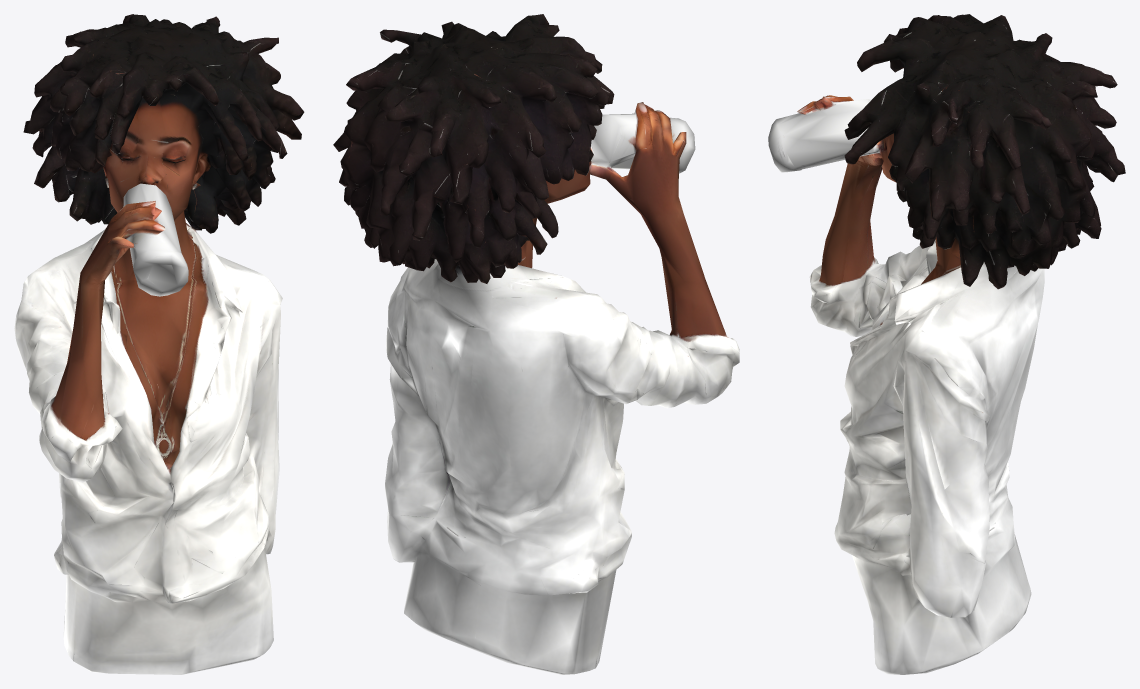
Rendered from black lady drinking.glb.
3 views of the same model, side by side, from view 1: azimuth 30°, elevation 25°; view 2: azimuth 150°, elevation 25°; view 3: azimuth 270°, elevation 25° (orthographic). The views are drawn at different scales.
Parts seen in each view (by area): view 1: Mesh_0; view 2: Mesh_0; view 3: Mesh_0.
Boxes of the visible parts, <box> form: Mesh_0: <box>14,14,304,674</box>; Mesh_0: <box>333,14,739,674</box>; Mesh_0: <box>768,14,1125,674</box>.
Bounding box in the file's own units: 1.01 × 1.92 × 1.03.
Materials: 1 (1 with a texture image).
